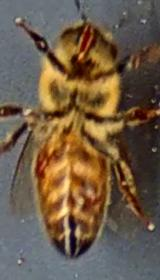varroa_mite: (28, 145, 52, 179)
